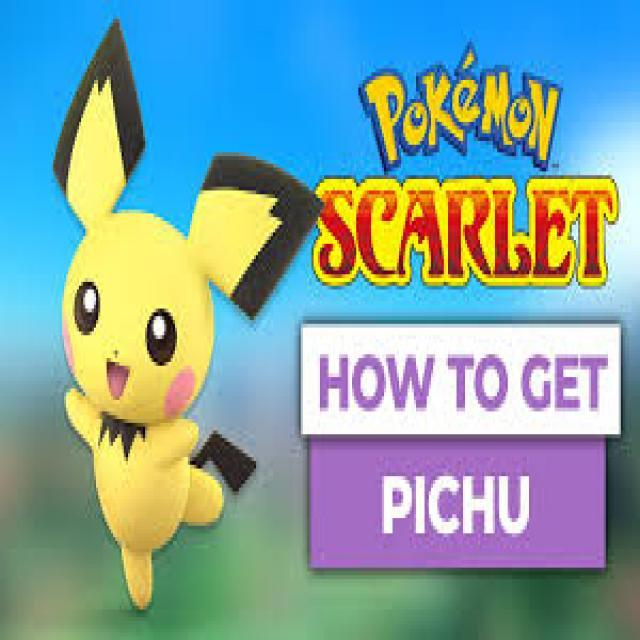pichu: (28, 35, 324, 598)
